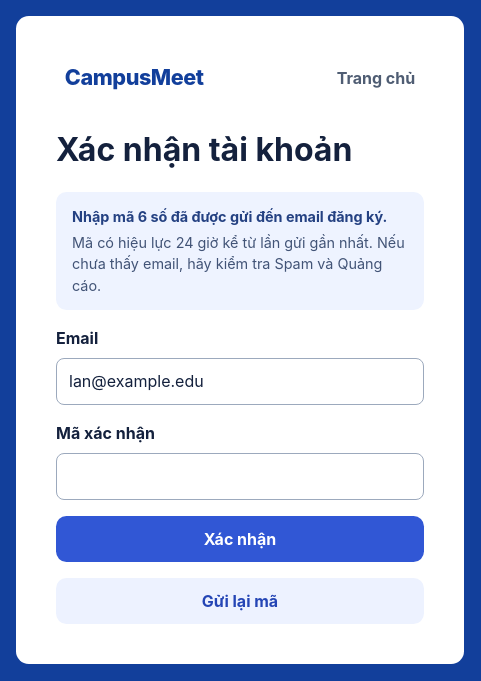
direct Cognito auth pages › gửi lại mã hiển thị đích gửi và bắt đầu cooldown mới
Click the button "Gửi lại mã" at x=240, y=601, box [56, 578, 424, 624]
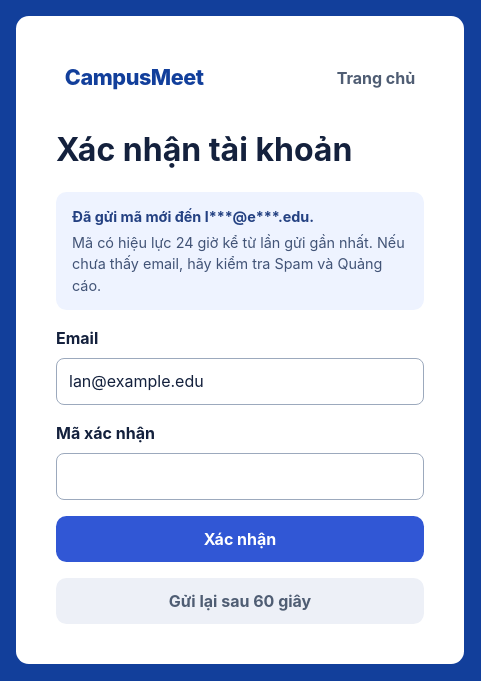
Expected: the text "Đã gửi mã mới đến l***@e***.edu." is shown, [72, 208, 314, 225]
Expected: the button "Gửi lại sau 60 giây" is disabled, [56, 578, 424, 624]
